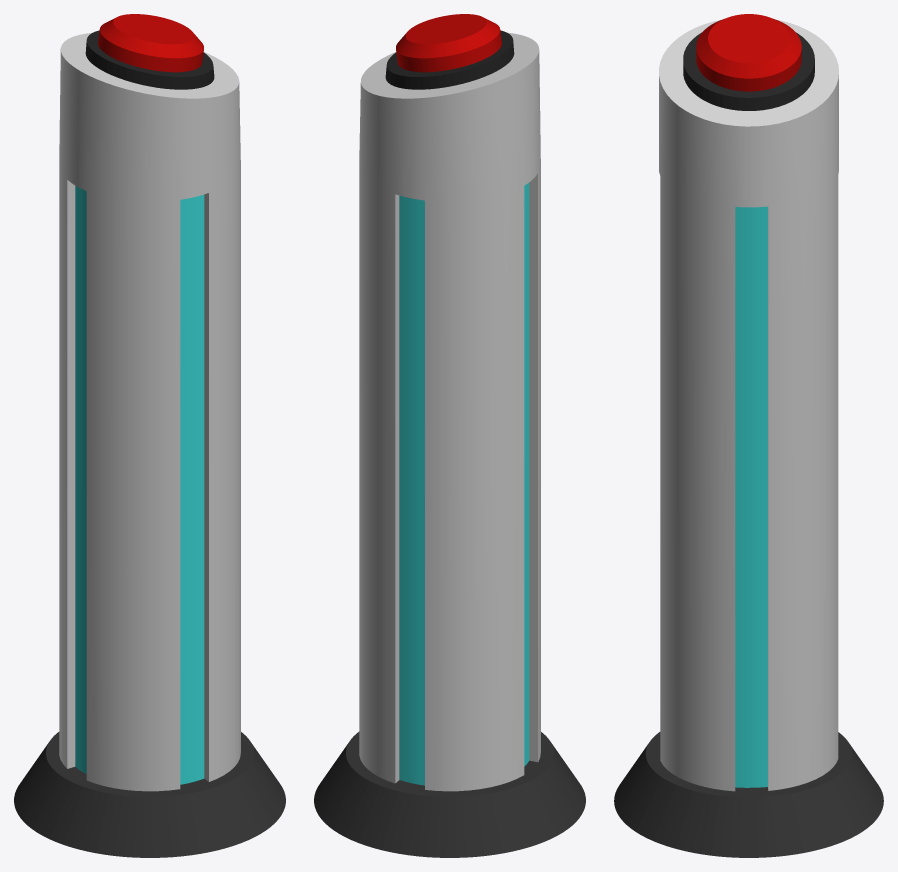
Rendered from pedestal_button.fbx.
3 renders of one model, left to right at view 1: azimuth 30°, elevation 25°; view 2: azimuth 150°, elevation 25°; view 3: azimuth 270°, elevation 25°, orthographic.
Parts seen in each view (by area): view 1: Cylinder; view 2: Cylinder; view 3: Cylinder.
Part boxes in pixels (x1=…): Cylinder: x1=14, y1=14, x2=285, y2=857; Cylinder: x1=314, y1=14, x2=585, y2=857; Cylinder: x1=614, y1=14, x2=883, y2=857.
Bounding box in the file's own units: 36.17 × 114 × 36.17.
